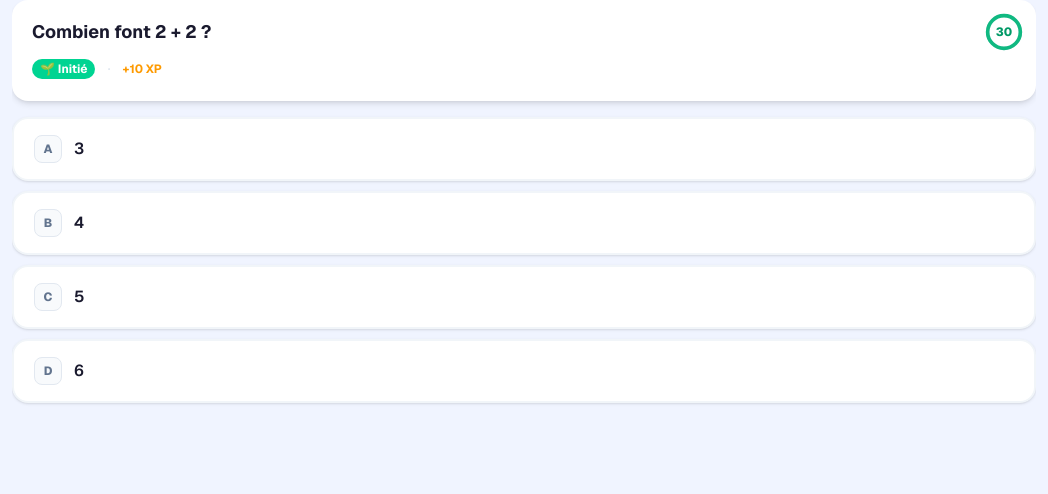
Test: QuizCard › shows wrong answer feedback on incorrect choice
This screenshot has width=1048, height=494.
Click the text "3".
click(79, 149)  # box [74,138,84,160]
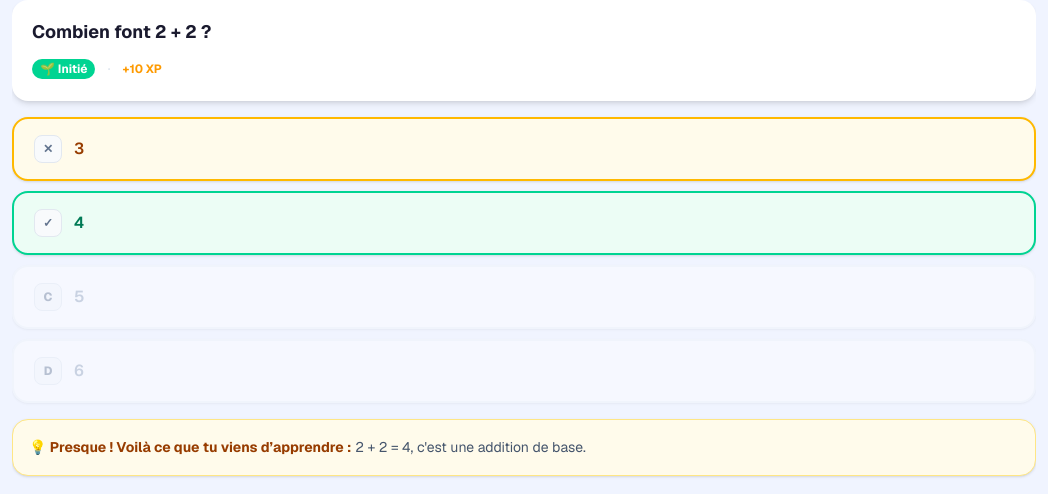
Result: the text "💡 Presque ! Voilà ce que tu viens d’apprendre :" is shown at [29,438,351,456]
